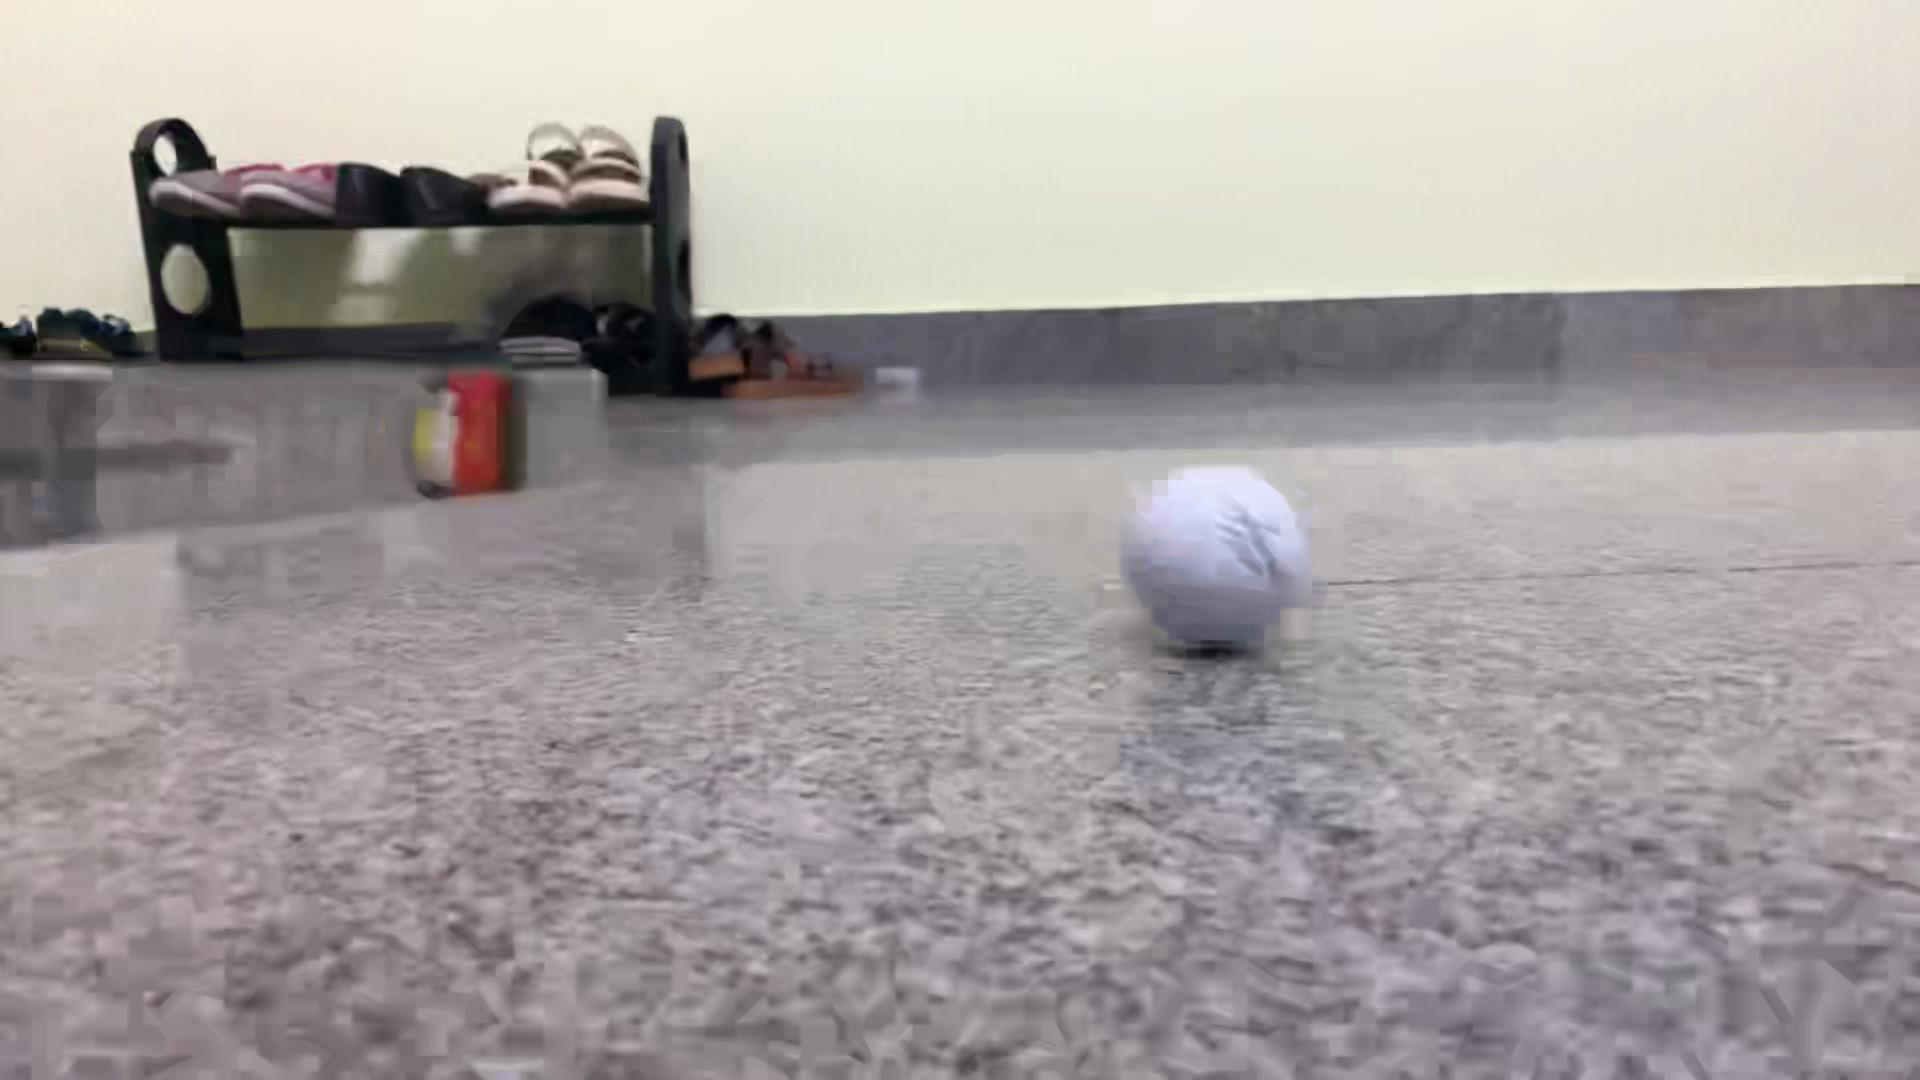golfball: (1116, 468, 1312, 648)
